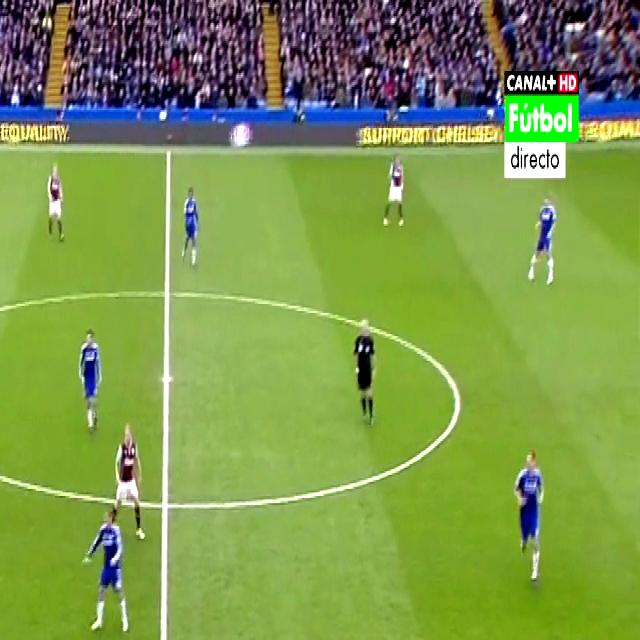referee: (349, 313, 384, 438)
soccer-player: (77, 496, 137, 640), (509, 436, 548, 590), (109, 414, 147, 550), (73, 320, 108, 442), (528, 186, 561, 295), (382, 143, 409, 235), (177, 181, 203, 276), (42, 158, 66, 248)
